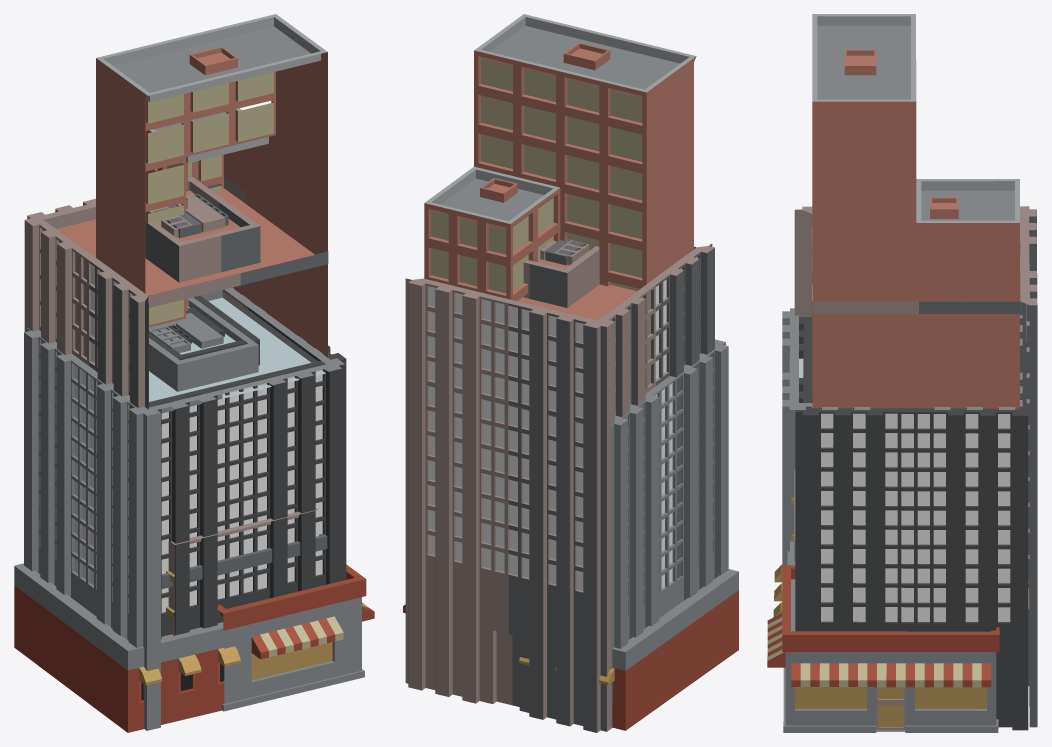
The model's file is Buildings.fbx.
3 renders of one model, left to right at view 1: azimuth 30°, elevation 25°; view 2: azimuth 150°, elevation 25°; view 3: azimuth 270°, elevation 25°, orthographic. The views are drawn at different scales.
Visible parts, largest first — view 1: B_High05, B_High04, B_High03, B_High01, B_IceCream, B_Hamburger, B_High02, B_Building02, B_Building01; view 2: B_High01, B_High05, B_High02, B_High04, B_IceCream; view 3: B_High05, B_High03, B_Hamburger, B_High02, B_High01, B_High04, B_IceCream.
Part boxes in pixels (box(x1,y1,x2,y2)): B_High05: box(96, 14, 327, 357); B_High04: box(24, 287, 344, 730); B_High03: box(129, 289, 346, 638); B_High01: box(24, 176, 327, 408); B_IceCream: box(14, 563, 240, 732); B_Hamburger: box(217, 564, 374, 711); B_High02: box(26, 179, 328, 408); B_Building02: box(161, 533, 327, 597); B_Building01: box(166, 508, 318, 635); B_High01: box(406, 240, 714, 732); B_High05: box(424, 14, 696, 301); B_High02: box(405, 239, 714, 732); B_High04: box(610, 339, 728, 727); B_IceCream: box(519, 569, 738, 730); B_High05: box(812, 14, 1019, 408); B_High03: box(795, 316, 1029, 730); B_Hamburger: box(767, 565, 999, 732); B_High02: box(795, 206, 1036, 727); B_High01: box(794, 206, 1037, 726); B_High04: box(782, 308, 1022, 582); B_IceCream: box(773, 541, 1028, 616).
Bounding box in the file's own units: 12.28 × 29.35 × 11.55.
